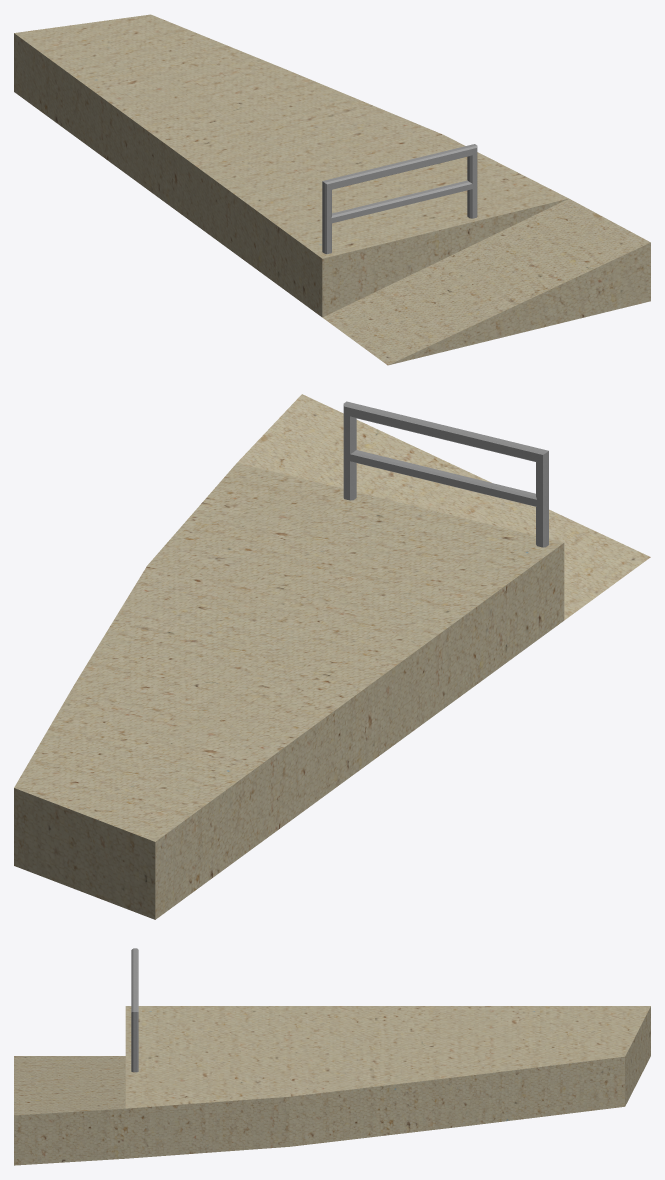
Rendered from PALCO AUDITÓRIO.fbx.
3 renders of one model, top to bottom at view 1: azimuth 30°, elevation 25°; view 2: azimuth 150°, elevation 25°; view 3: azimuth 270°, elevation 25°, orthographic. The views are drawn at different scales.
Visible parts, largest first — view 1: Cube, Cube.001; view 2: Cube, Cube.001; view 3: Cube, Cube.001.
Part boxes in pixels (<box>): Cube: <box>14,14,650,365</box>; Cube.001: <box>322,144,477,253</box>; Cube: <box>14,394,650,919</box>; Cube.001: <box>343,401,548,547</box>; Cube: <box>14,1006,650,1165</box>; Cube.001: <box>131,948,138,1072</box>.
Bounding box in the file's own units: 1.59 × 0.7477 × 3.9.
Materials: 2 (2 with a texture image).
